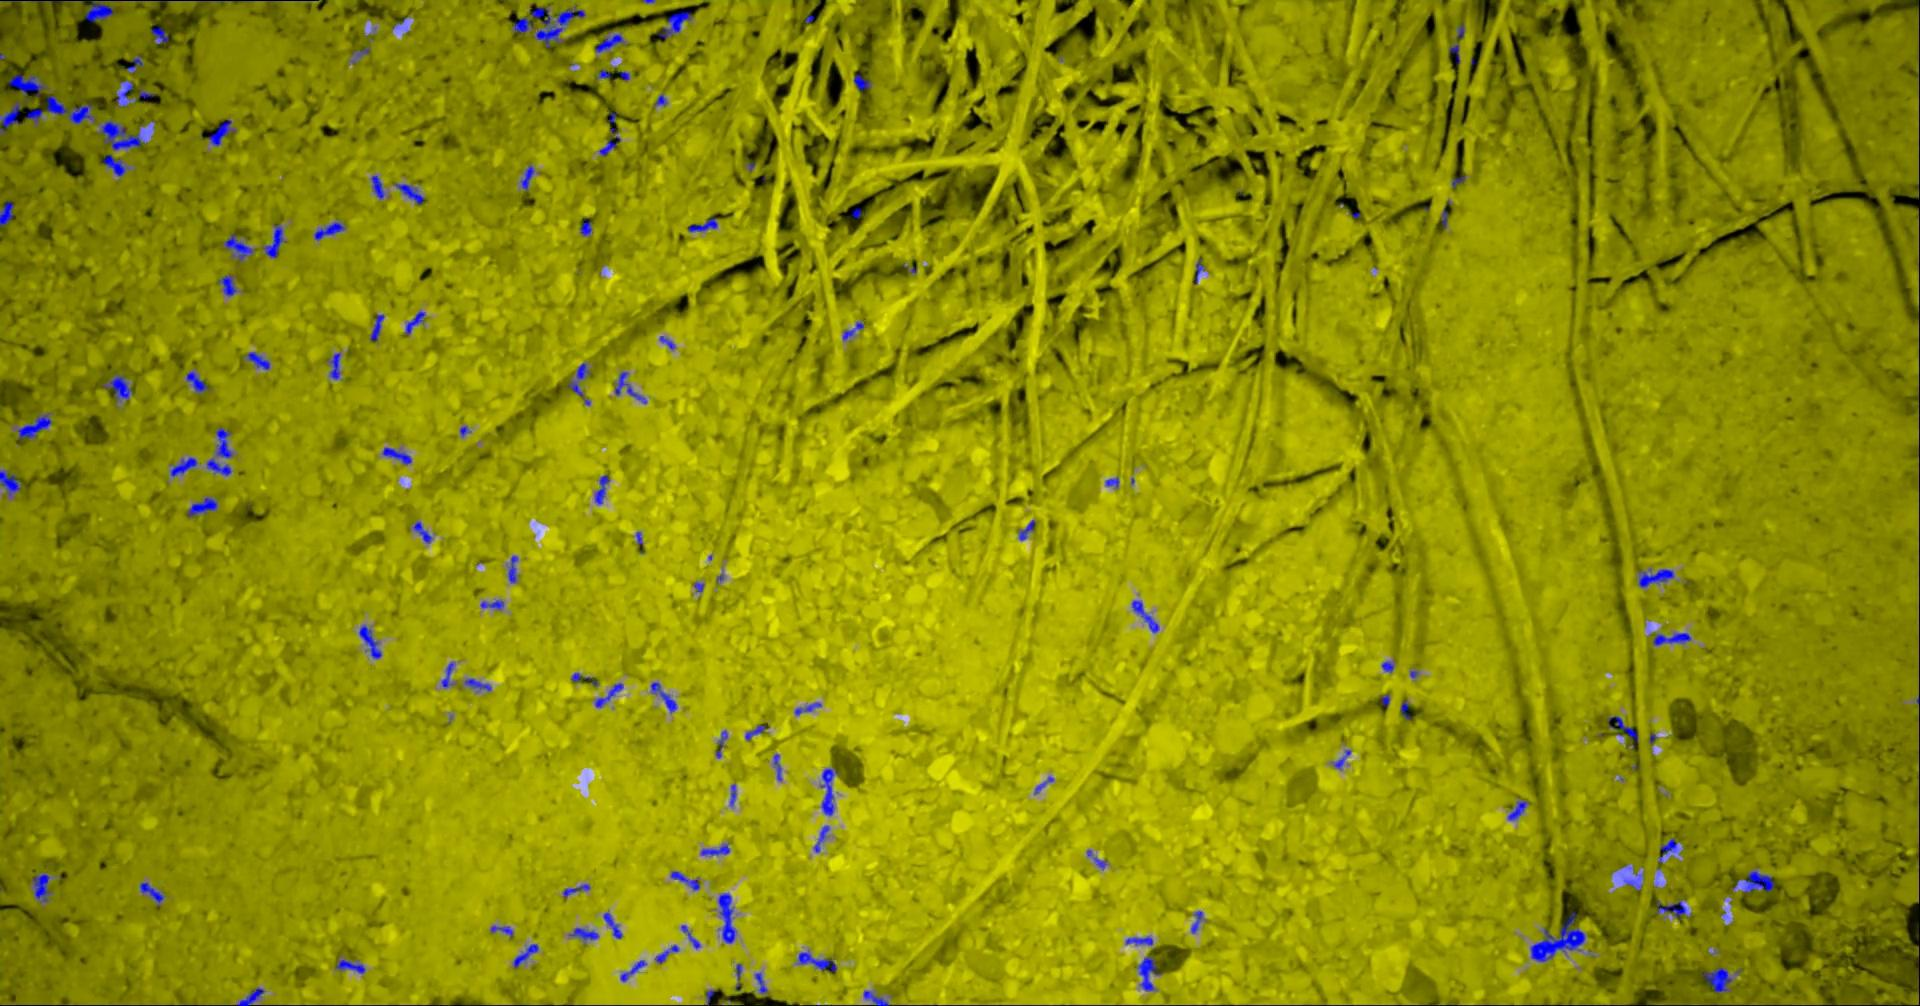ant: (513, 6, 585, 47), (27, 95, 97, 123), (99, 119, 149, 150), (10, 74, 50, 102), (599, 111, 622, 155), (616, 371, 648, 403), (659, 10, 693, 39), (569, 362, 592, 405), (719, 892, 738, 942), (1133, 600, 1161, 633), (822, 767, 841, 815), (19, 413, 53, 439), (1735, 870, 1777, 892), (225, 232, 257, 260), (104, 373, 135, 401), (651, 681, 678, 713), (361, 624, 383, 658), (1139, 955, 1162, 989), (1609, 715, 1639, 741), (1704, 967, 1735, 992), (264, 224, 287, 257), (799, 951, 838, 970), (210, 119, 237, 146), (596, 682, 625, 708), (1641, 568, 1676, 587), (86, 0, 117, 22), (395, 183, 425, 205), (1, 102, 22, 133), (140, 882, 166, 906), (189, 495, 218, 517), (103, 154, 130, 177), (315, 221, 347, 240), (1658, 898, 1688, 918), (516, 942, 540, 967), (596, 33, 626, 52), (672, 871, 701, 890), (1, 470, 23, 495), (622, 959, 648, 981), (217, 427, 235, 457), (171, 457, 199, 476), (33, 873, 52, 901), (237, 987, 265, 1005), (682, 923, 702, 948), (1658, 837, 1677, 862), (604, 912, 623, 937), (383, 447, 413, 464), (117, 79, 135, 105), (1655, 633, 1691, 645), (188, 371, 210, 392), (1509, 800, 1531, 821), (406, 310, 425, 334), (657, 944, 681, 963), (596, 474, 611, 503), (414, 521, 434, 542), (248, 351, 270, 370), (371, 312, 386, 340), (337, 959, 367, 973), (690, 217, 719, 231), (521, 164, 536, 191), (815, 826, 830, 852), (865, 989, 891, 1005), (208, 459, 232, 475), (844, 321, 865, 340), (152, 23, 170, 44), (220, 274, 237, 296), (564, 883, 590, 897), (570, 927, 599, 940), (1020, 520, 1037, 540), (443, 661, 456, 687), (796, 702, 823, 715), (1335, 749, 1352, 768), (1, 201, 15, 225), (717, 729, 729, 758), (702, 843, 731, 855), (855, 72, 872, 90), (1625, 873, 1643, 890), (352, 47, 371, 64), (747, 724, 766, 741), (373, 175, 386, 199), (466, 678, 493, 690), (756, 972, 770, 993), (128, 55, 145, 72), (491, 925, 514, 937), (1192, 909, 1204, 934), (331, 352, 342, 379), (509, 555, 519, 582), (775, 753, 783, 780), (1128, 936, 1154, 945), (1197, 258, 1206, 283), (1450, 44, 1462, 64), (573, 672, 593, 682), (483, 600, 505, 608), (1402, 700, 1412, 719), (582, 220, 593, 235), (737, 963, 743, 989), (1383, 661, 1396, 672), (197, 0, 253, 1), (1, 0, 55, 1)
